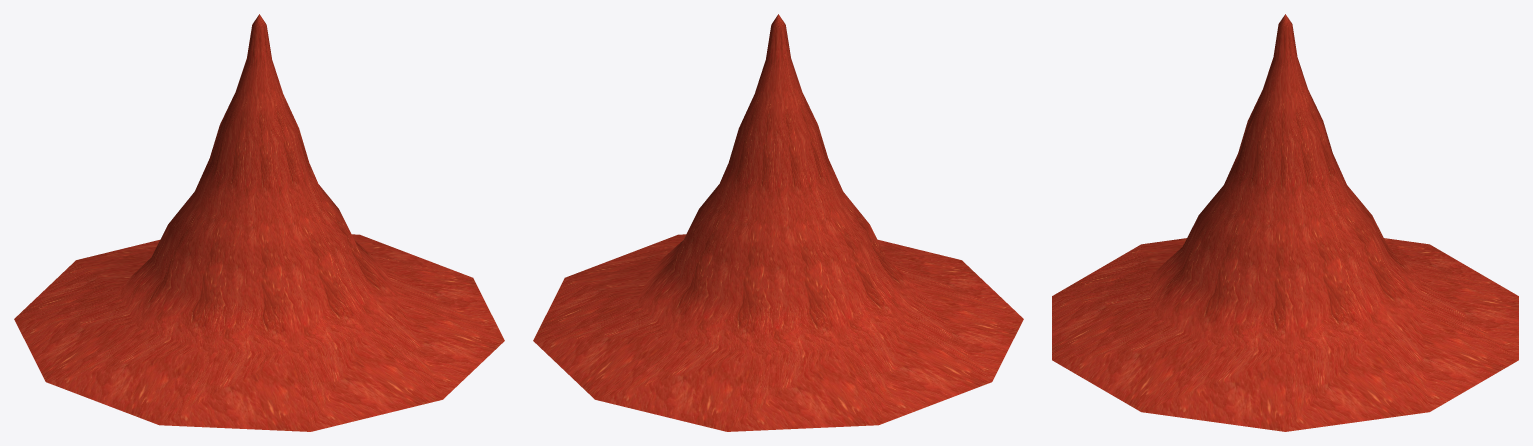
The model's file is spike.fbx.
3 renders of one model, left to right at view 1: azimuth 30°, elevation 25°; view 2: azimuth 150°, elevation 25°; view 3: azimuth 270°, elevation 25°, orthographic.
Visible parts, largest first — view 1: pCone1; view 2: pCone1; view 3: pCone1.
Part boxes in pixels (bbox=[...]): pCone1: bbox=[14, 14, 504, 431]; pCone1: bbox=[533, 14, 1023, 431]; pCone1: bbox=[1052, 14, 1518, 431].
Bounding box in the file's own units: 16.08 × 11.36 × 15.3.
Materials: 1 (1 with a texture image).
